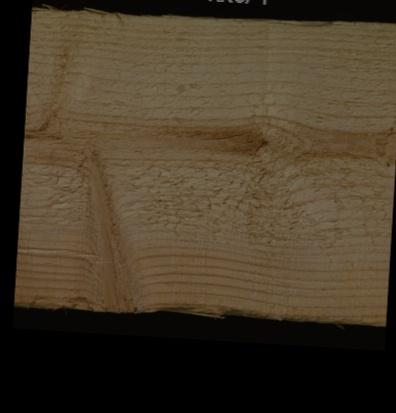wave: (13, 286, 299, 316)
